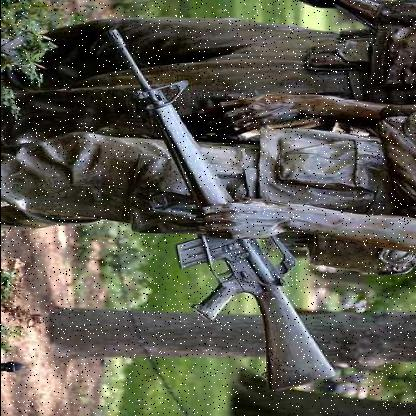rifle: (61, 21, 355, 399)
